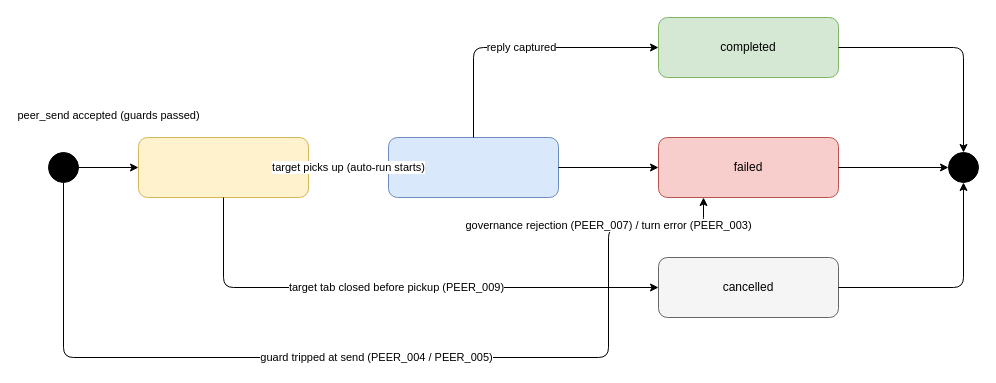
Some shapes in this 996 by 383 pixel diagram are drawn without their labels. Here are the shapes that lost their labels. From the top down, the box of each, then its label:
(138, 136, 308, 198): queued
(388, 136, 558, 198): running
